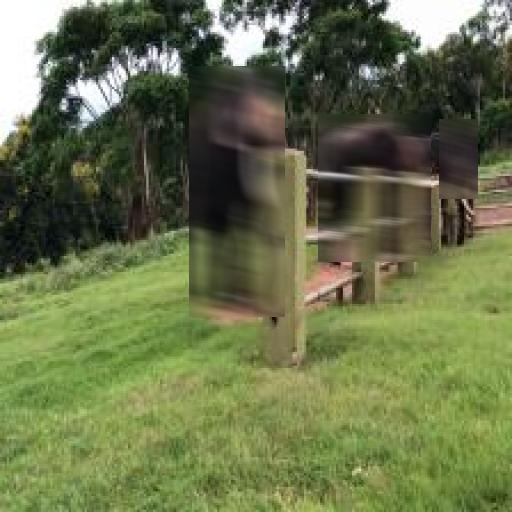Elephant: (190, 66, 286, 317), (318, 114, 431, 262), (439, 119, 478, 199)
